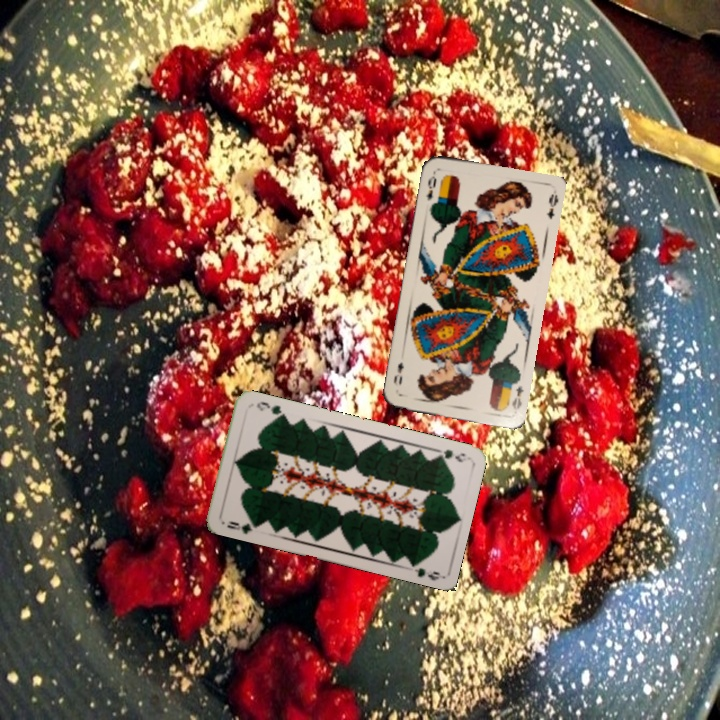EO: (422, 168, 439, 203), (508, 382, 526, 413)
G9: (223, 517, 260, 537), (431, 445, 468, 465)
